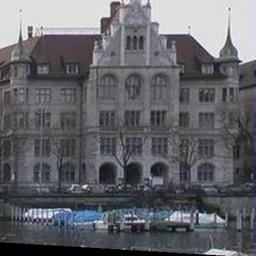building: (1, 0, 245, 195)
